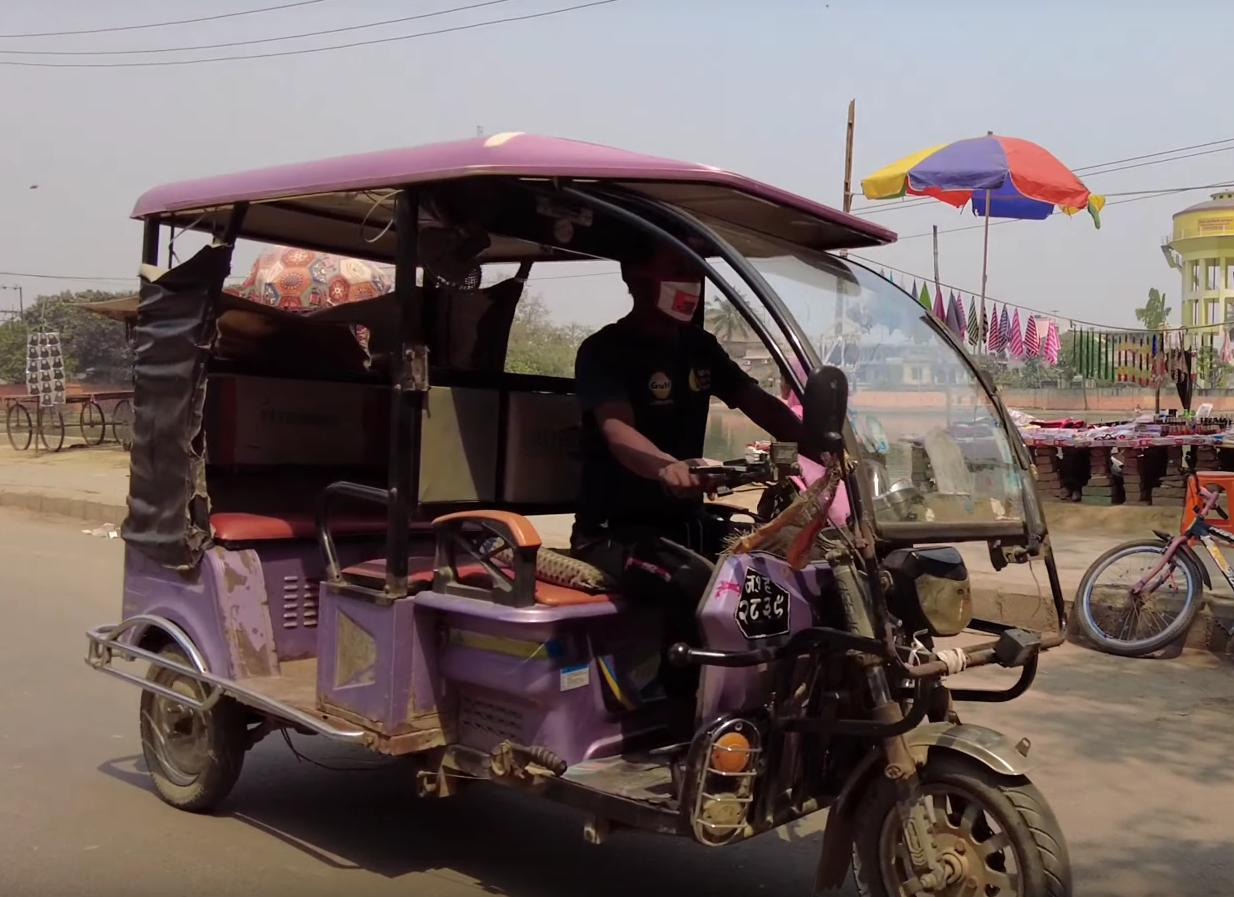e-rickshaw: (125, 150, 1100, 897)
